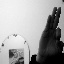f: (39, 6, 64, 59)
